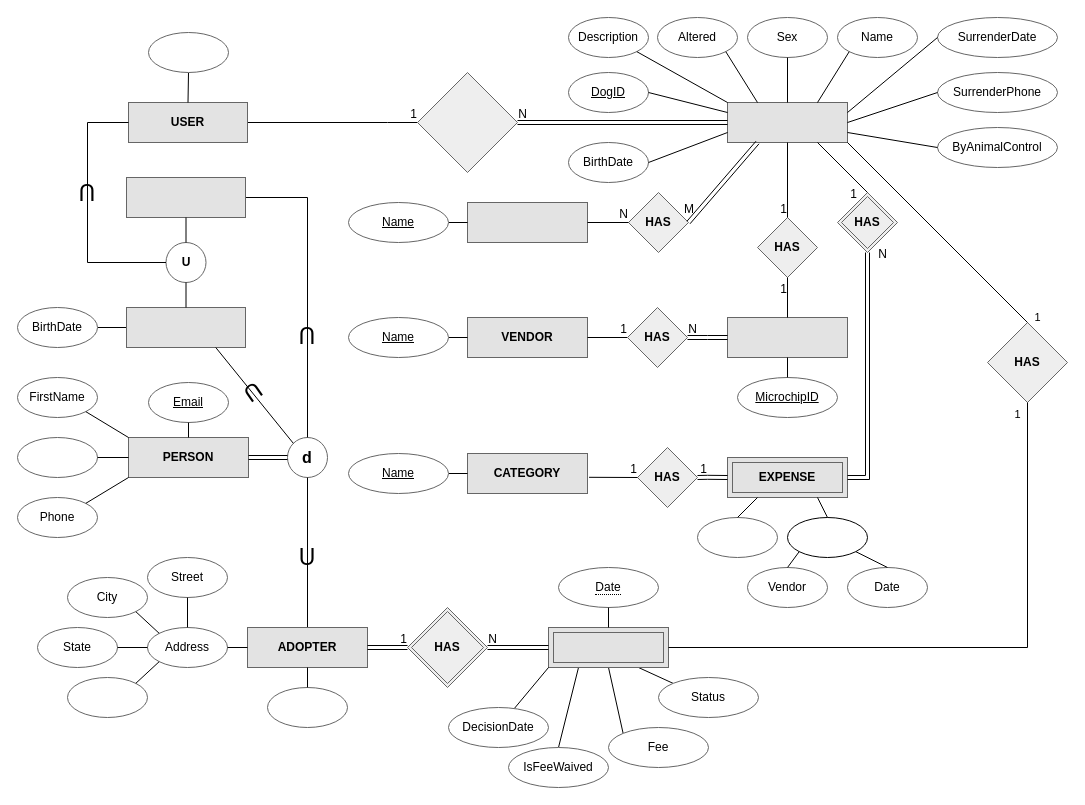
Some shapes in this 1085 by 805 pixel diagram are drawn without their labels. Here are the shapes that lost their labels. From the top down, the centre of each, then its label:
At point (188, 52): "Password".
At point (467, 122): "REGISTERS".
At point (787, 122): "DOG".
At point (186, 197): "DIRECTOR".
At point (527, 222): "BREED".
At point (186, 327): "VOLUNTEER".
At point (787, 337): "MICROCHIP".
At point (57, 457): "LastName".
At point (737, 537): "Amount".
At point (827, 537): "VendorDate".
At point (608, 647): "APPLICATION".
At point (107, 697): "Zip".
At point (307, 707): "Household".
